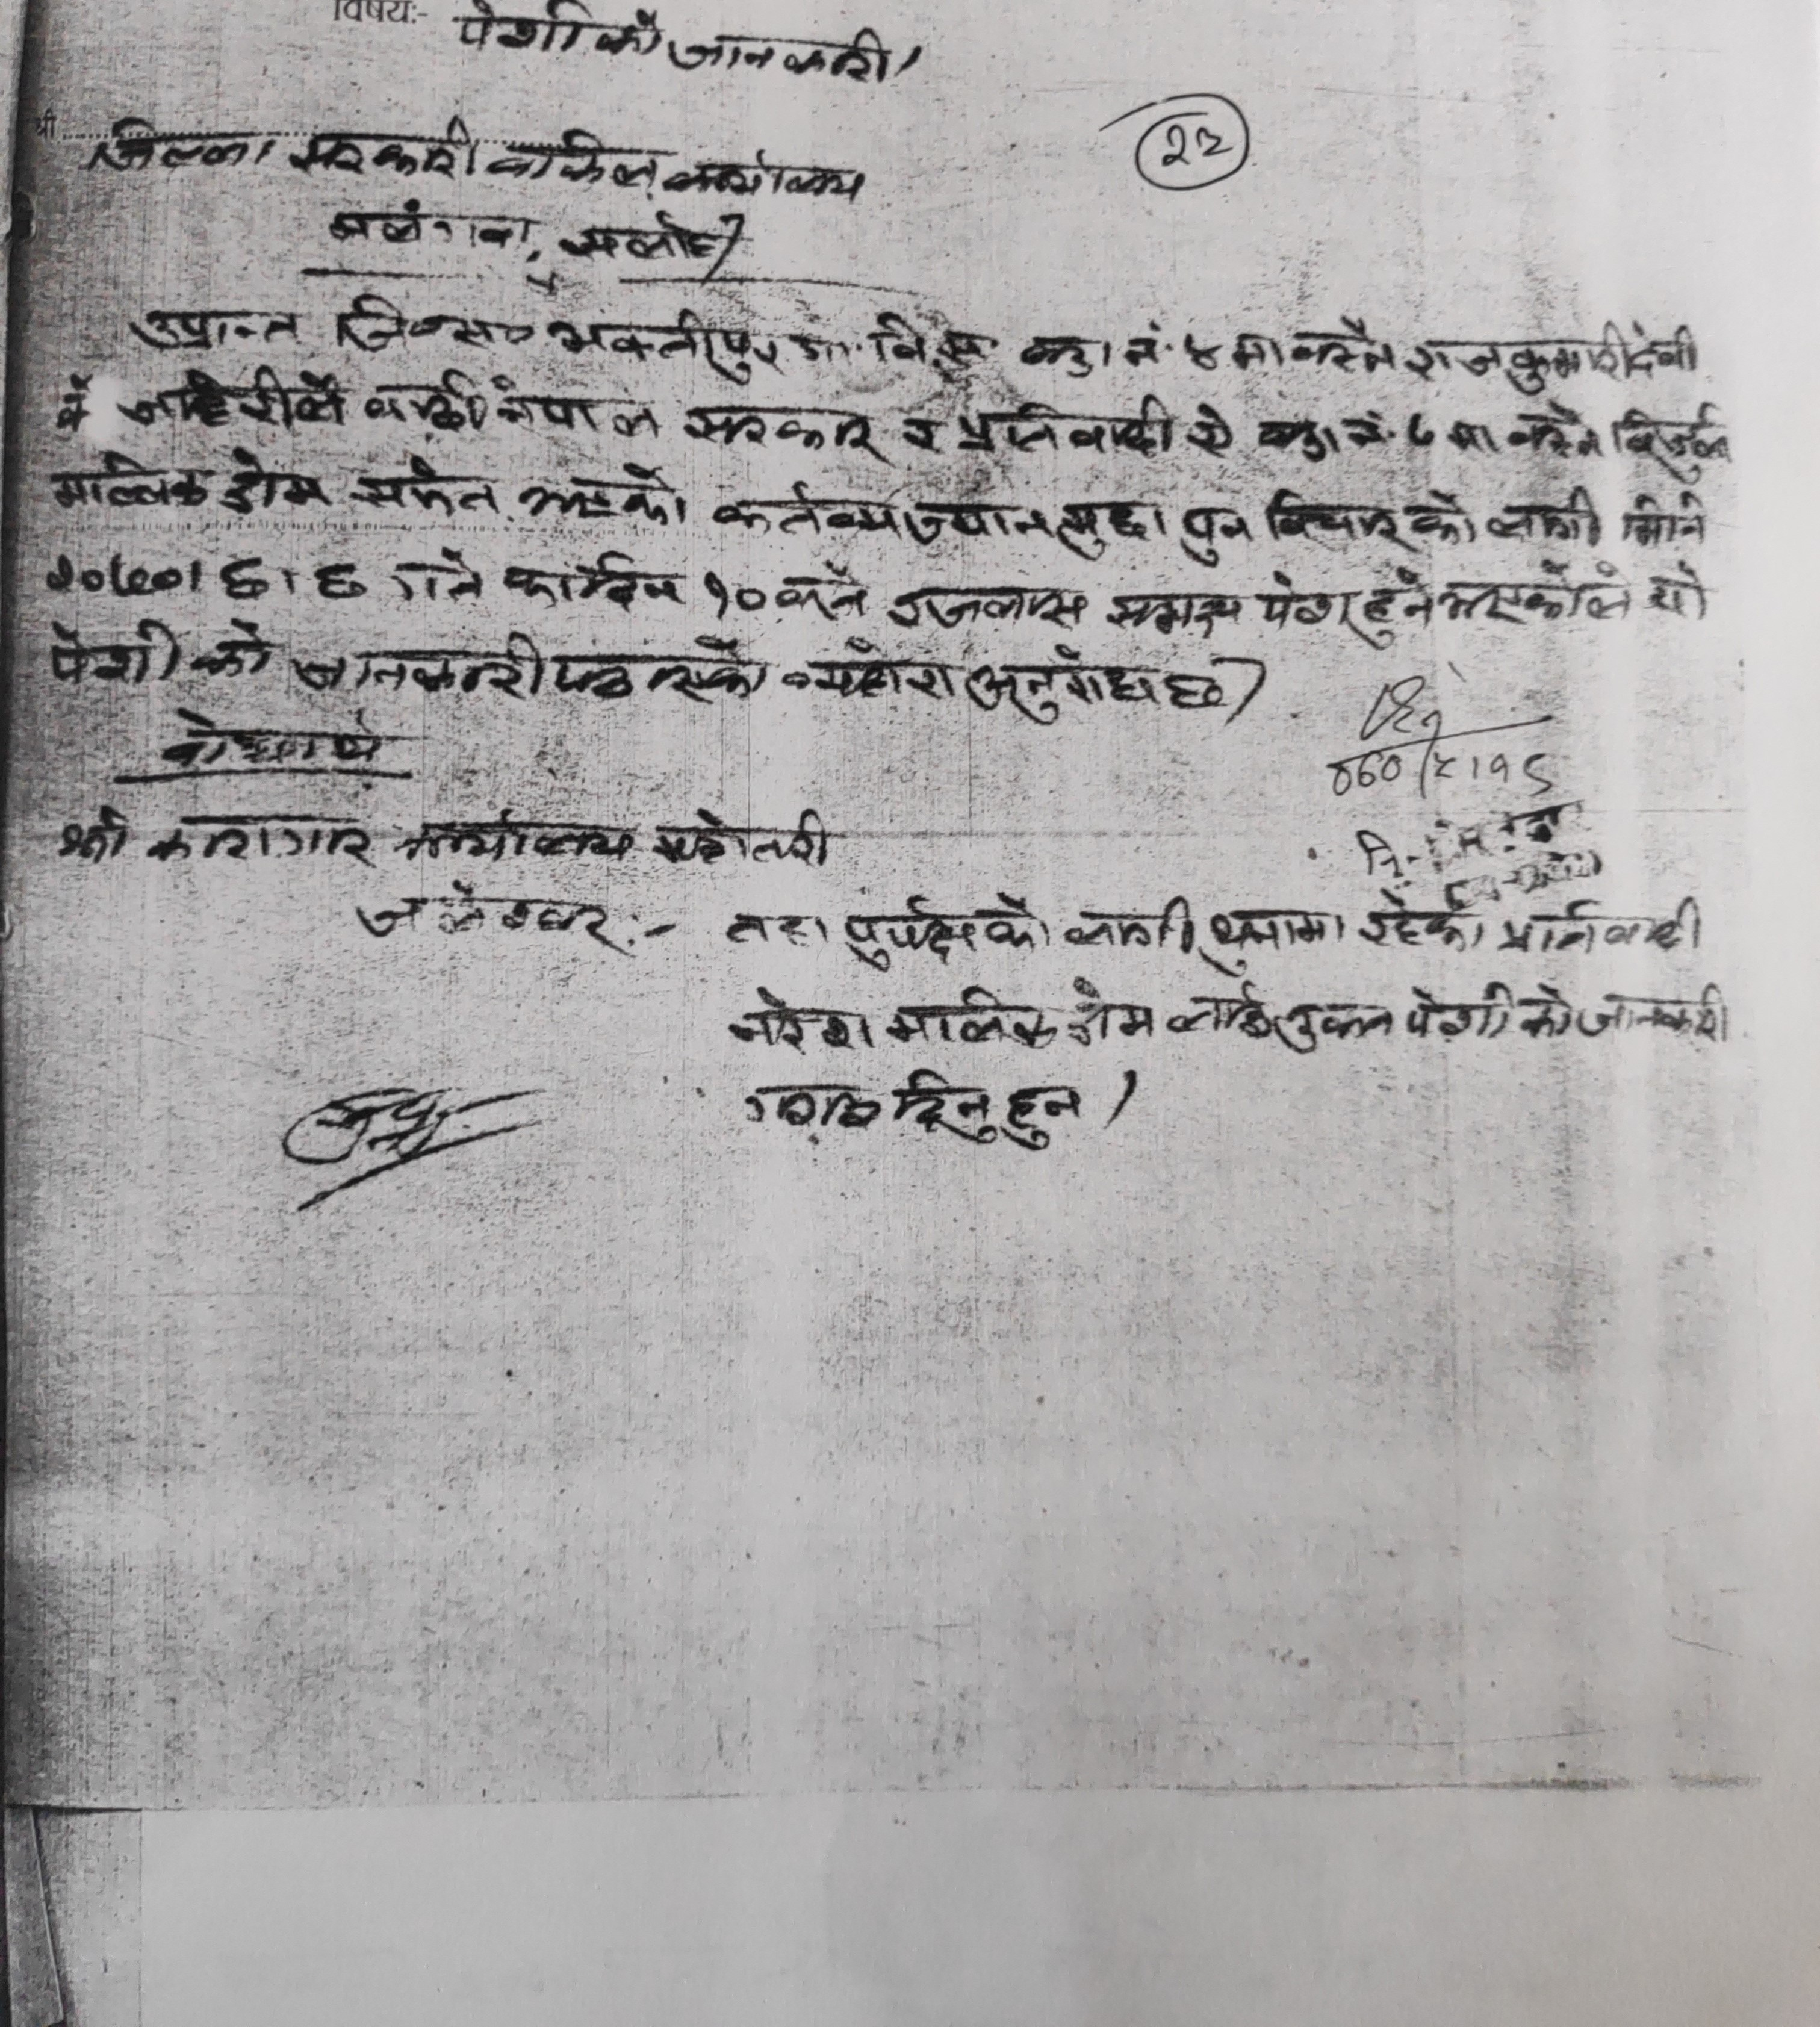text: (736, 1066, 1079, 1154), (1400, 311, 1708, 397), (39, 537, 372, 610), (668, 18, 901, 104), (548, 302, 789, 385), (1260, 481, 1484, 553), (964, 643, 1159, 724), (290, 111, 483, 186), (706, 478, 905, 550), (450, 0, 666, 65), (487, 126, 666, 200), (98, 111, 283, 179), (483, 371, 662, 441), (33, 617, 186, 690), (905, 487, 1047, 559), (130, 302, 306, 360), (383, 537, 488, 610), (1052, 497, 1165, 564), (1181, 495, 1251, 571), (1161, 660, 1228, 711)
